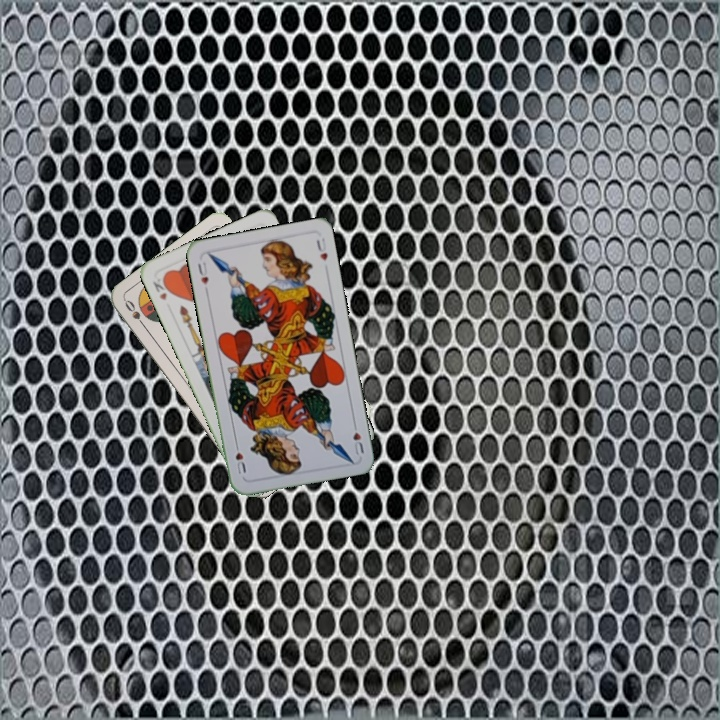HK: (149, 271, 173, 303)
HU: (193, 258, 211, 295), (349, 418, 366, 457)
SO: (120, 296, 149, 332)
